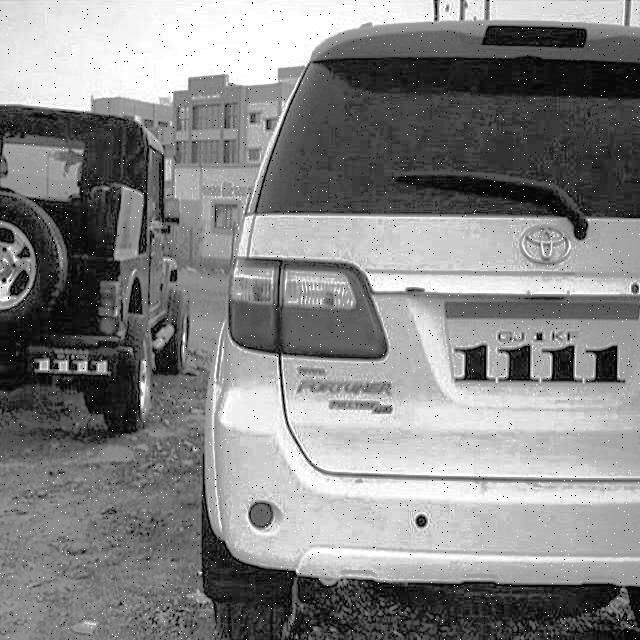Car: (206, 0, 640, 640), (3, 93, 189, 419)
